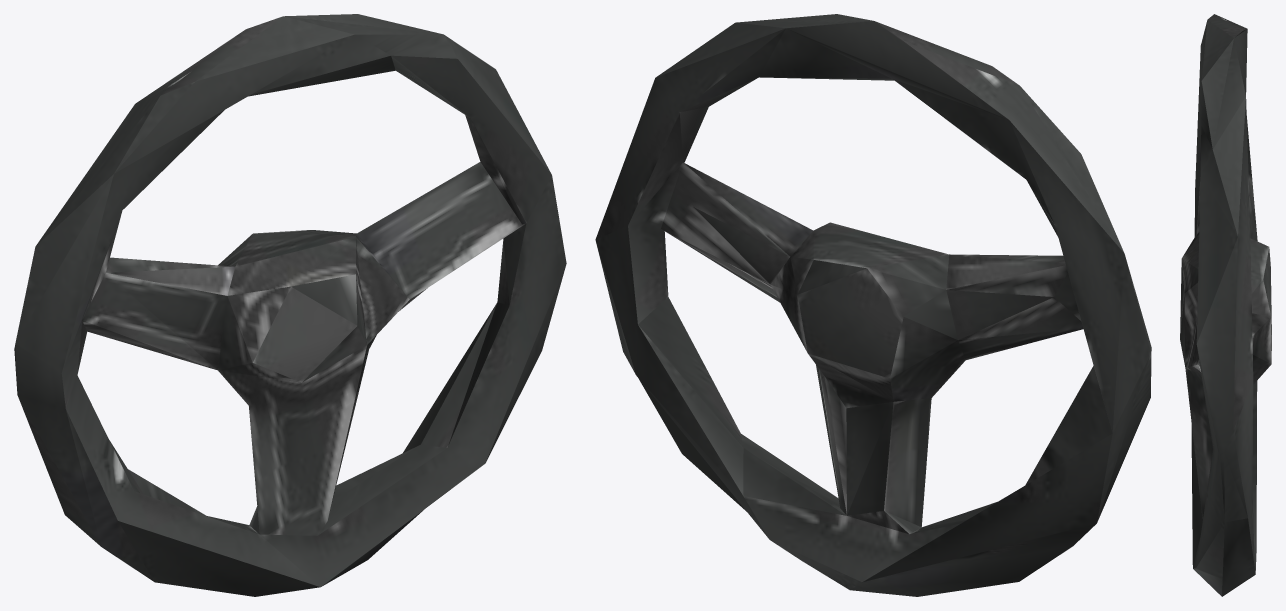
Rendered from shared_flight_deck_ordnance_tractor__steering_wheel_lod2.glb.
3 renders of one model, left to right at view 1: azimuth 30°, elevation 25°; view 2: azimuth 150°, elevation 25°; view 3: azimuth 270°, elevation 25°, orthographic. The views are drawn at different scales.
Visible parts, largest first — view 1: mesh_node; view 2: mesh_node; view 3: mesh_node.
Boxes of the visible parts, x1,y1,x2,y2 form: mesh_node: (14, 14, 566, 596); mesh_node: (595, 14, 1151, 596); mesh_node: (1180, 14, 1271, 596).
Size of the model in its own units: 0.4412 by 0.4361 by 0.0684.
1 material, 1 textured.
